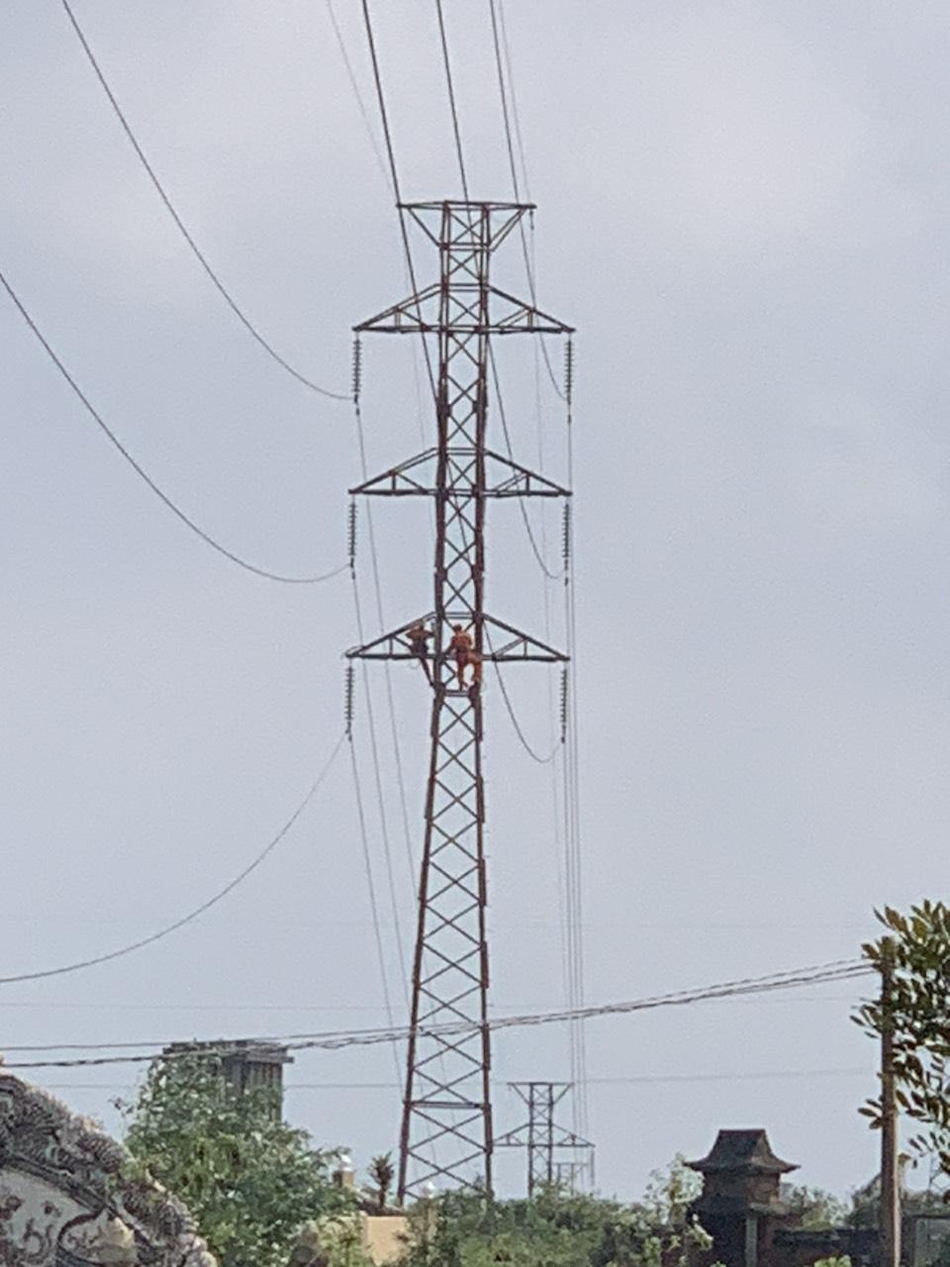tower: (333, 174, 573, 1254)
